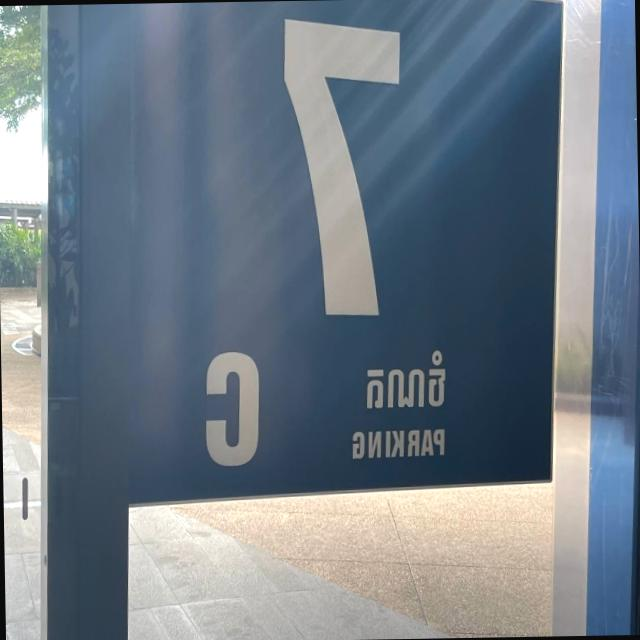819: (260, 14, 422, 338)
Yolov11kh: (357, 345, 453, 419)
